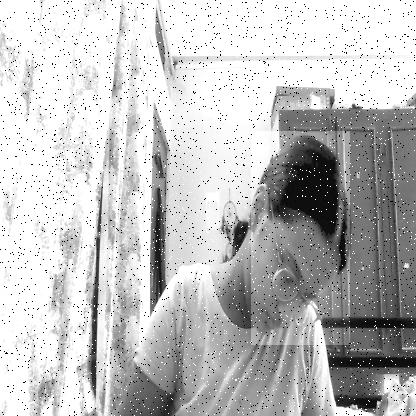Distracted: (251, 131, 350, 345)
